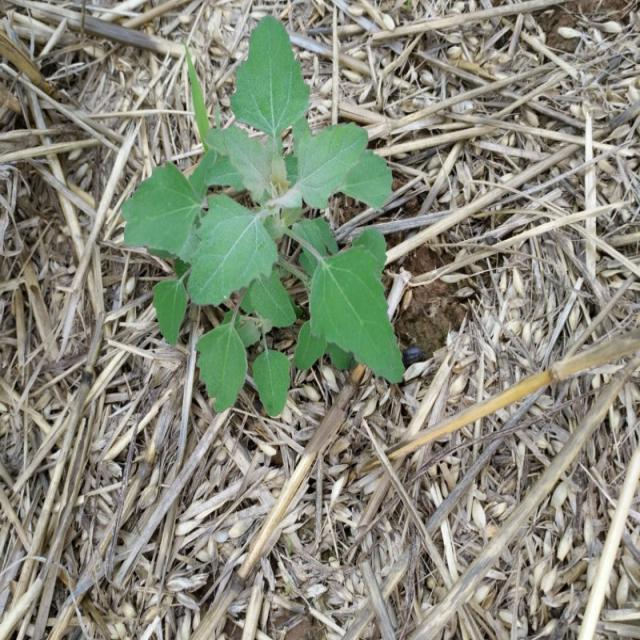goosefoots: (72, 48, 438, 421)
